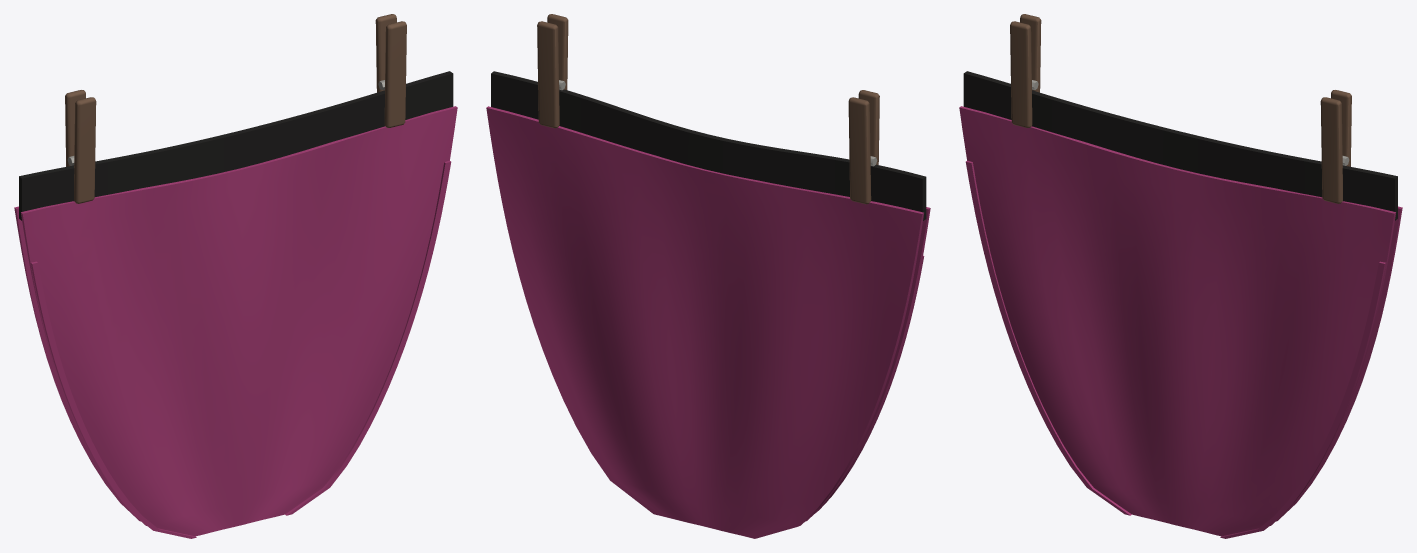
Rendered from knickers-line-vibe-6aa3684f155c.glb.
3 views of the same model, side by side, from view 1: azimuth 30°, elevation 25°; view 2: azimuth 150°, elevation 25°; view 3: azimuth 330°, elevation 25° (orthographic).
Visible parts, largest first — view 1: accent-magenta, rubber, wood; view 2: accent-magenta, rubber, wood; view 3: accent-magenta, rubber, wood.
Boxes of the visible parts, <box> form: accent-magenta: <box>14,106,457,538</box>; rubber: <box>19,71,453,220</box>; wood: <box>65,14,406,203</box>; accent-magenta: <box>486,106,930,538</box>; rubber: <box>491,71,926,220</box>; wood: <box>537,14,879,204</box>; accent-magenta: <box>959,106,1402,538</box>; rubber: <box>963,71,1397,220</box>; wood: <box>1010,14,1351,203</box>.
Bounding box in the file's own units: 0.237 × 0.242 × 0.014.
